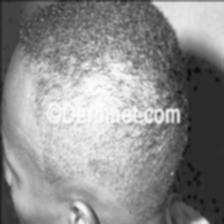Toxin: (67, 54, 153, 106)
